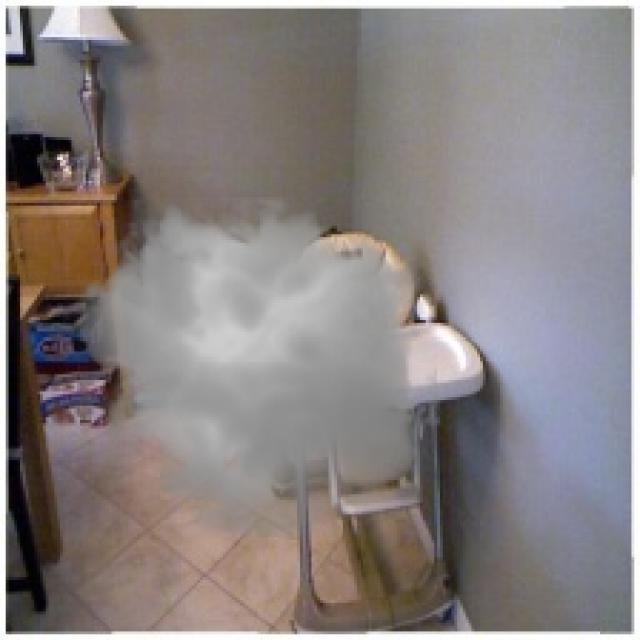smoke: (63, 183, 437, 551)
